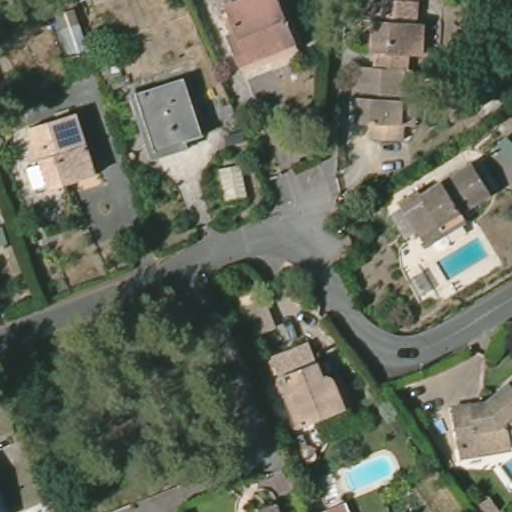pool: (431, 234, 490, 281), (333, 454, 399, 496)
